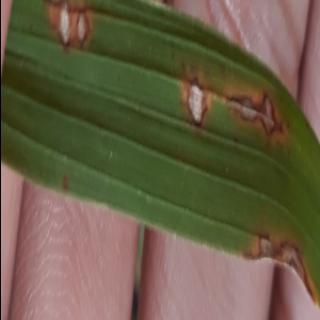Blast: (172, 75, 282, 155), (34, 0, 115, 64)
